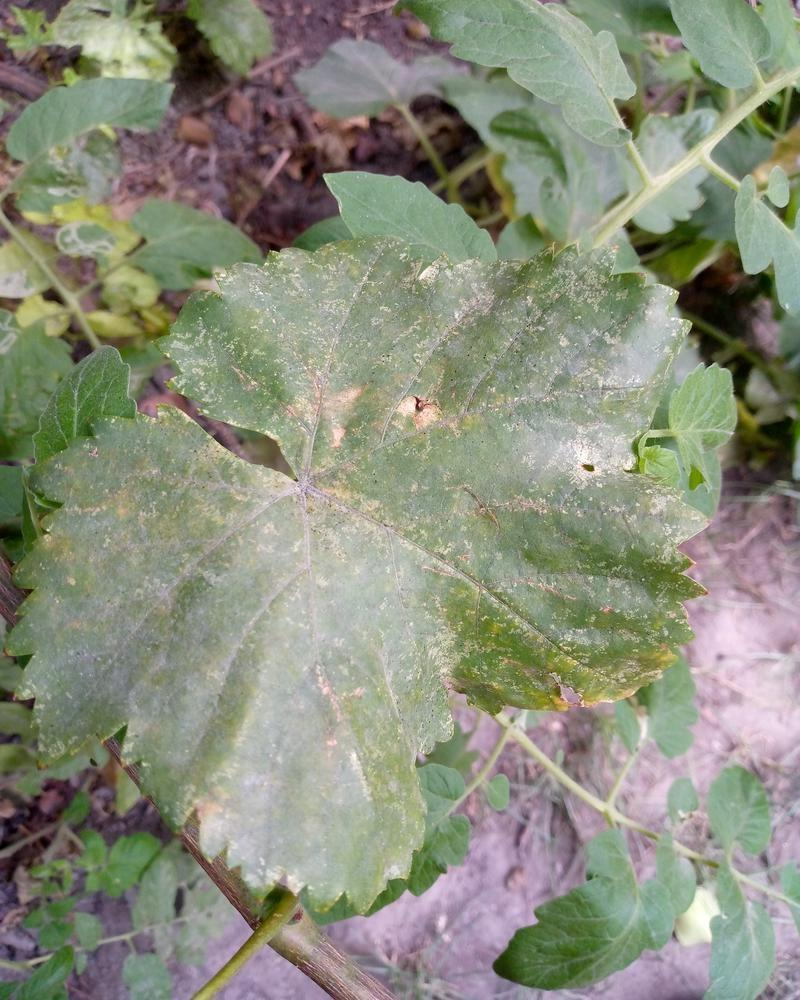Powdery-Mildew: (197, 525, 442, 884), (379, 292, 494, 443), (599, 276, 687, 393), (607, 301, 687, 393), (286, 369, 362, 446), (551, 420, 646, 480), (286, 473, 358, 549), (374, 394, 458, 450), (404, 255, 467, 318), (578, 389, 641, 452)
